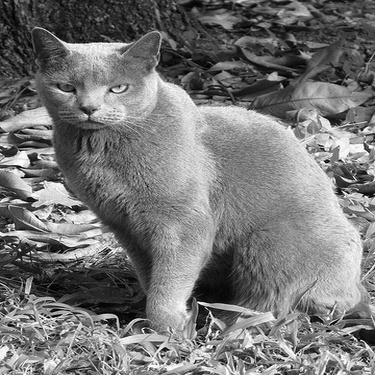cat: (30, 19, 364, 340)
